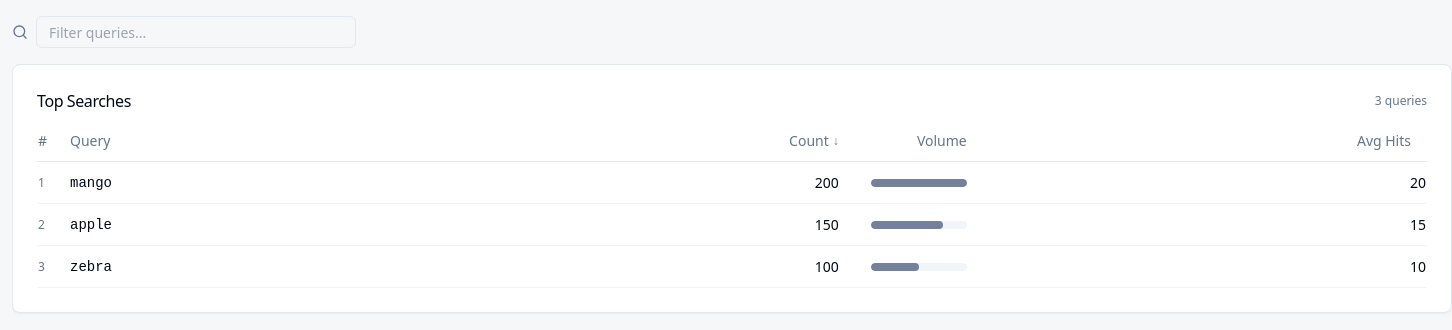
Test: SearchesTab › sorts query rows alphabetically when the query header is toggled
Click the text "Query".
click(90, 141)  # box [70,131,110,151]
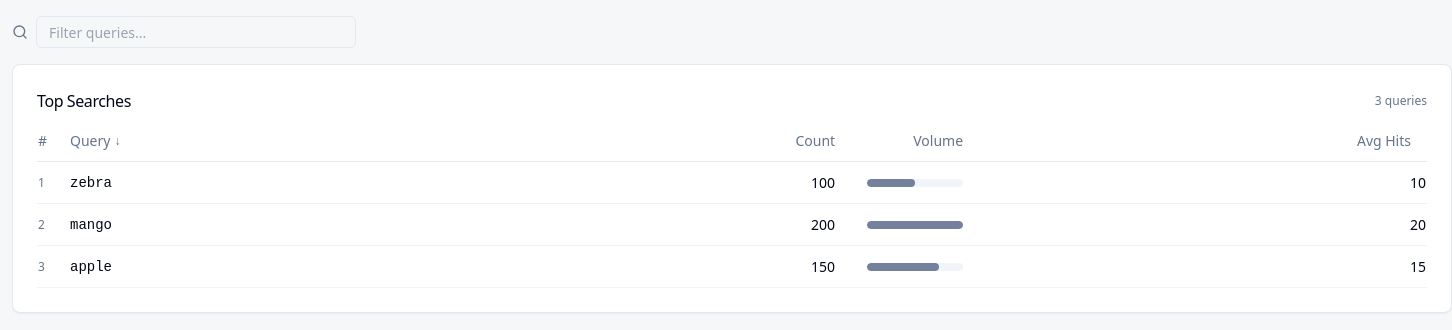
Expected: the elements with test id "search-query" read "zebra", "mango", "apple", in this order, [69,162,494,204]; [69,204,494,246]; [69,246,494,288]
Click the text "Query".
click(95, 141)  # box [70,131,120,151]
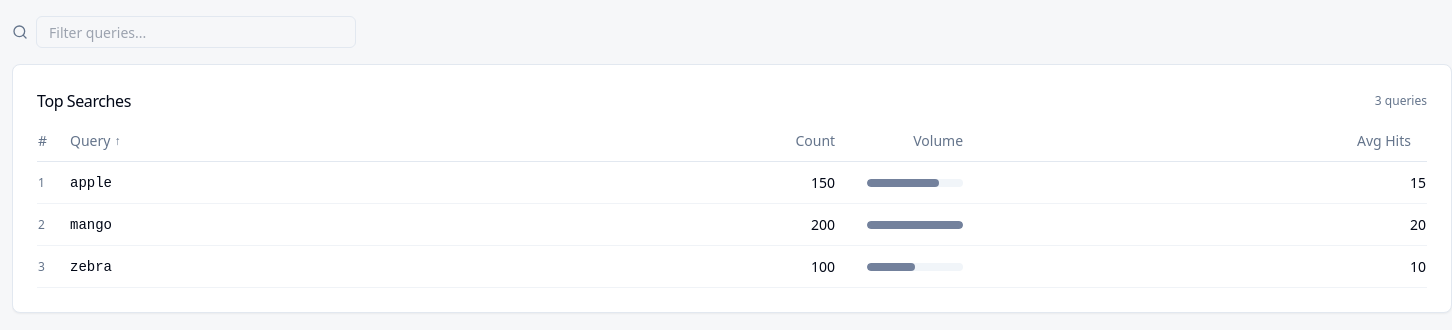
Expected: the elements with test id "search-query" read "apple", "mango", "zebra", in this order, [69,162,494,204]; [69,204,494,246]; [69,246,494,288]
